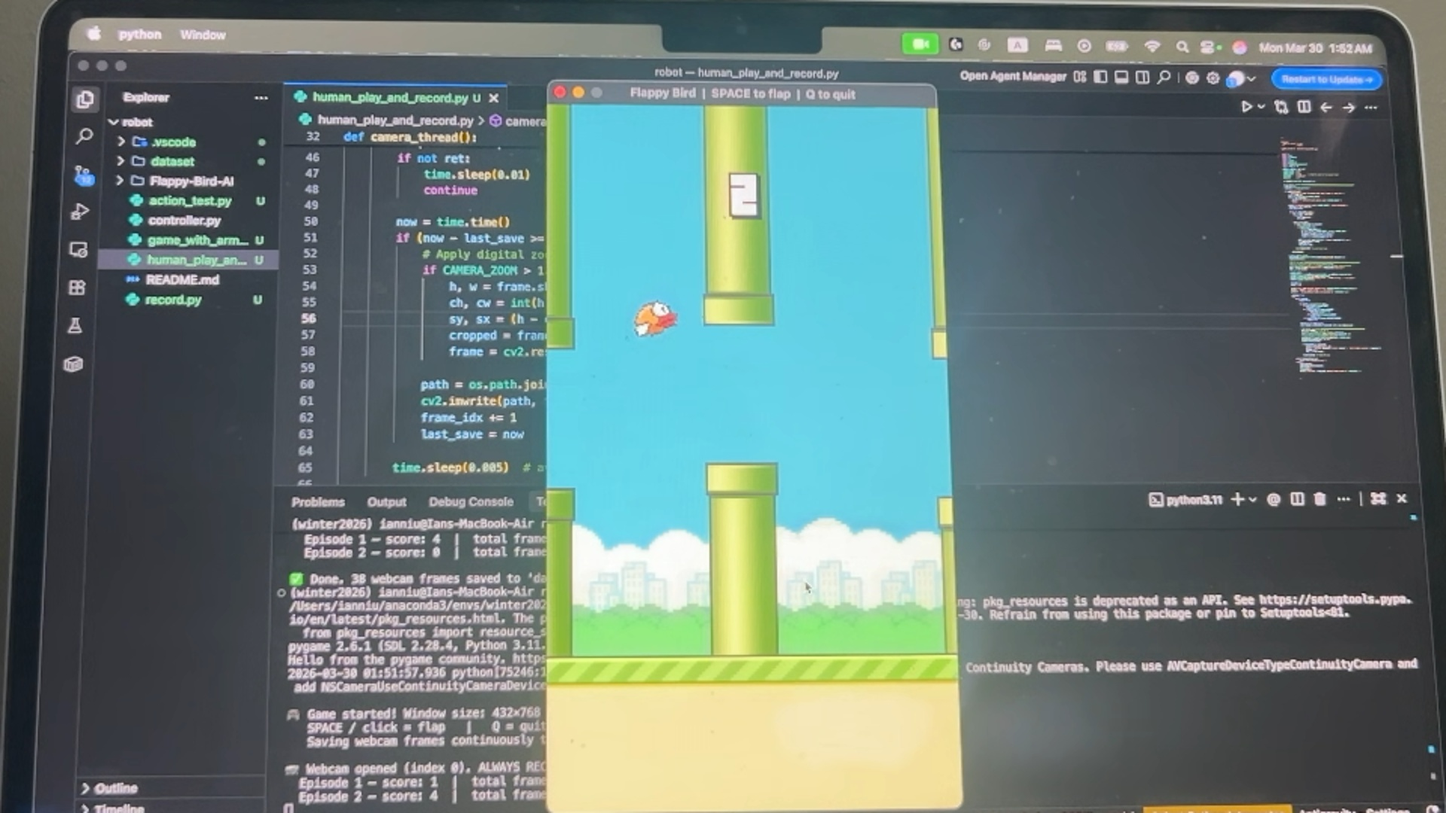bird: (629, 294, 682, 344)
green pipes: (700, 103, 776, 331), (708, 461, 783, 659)
